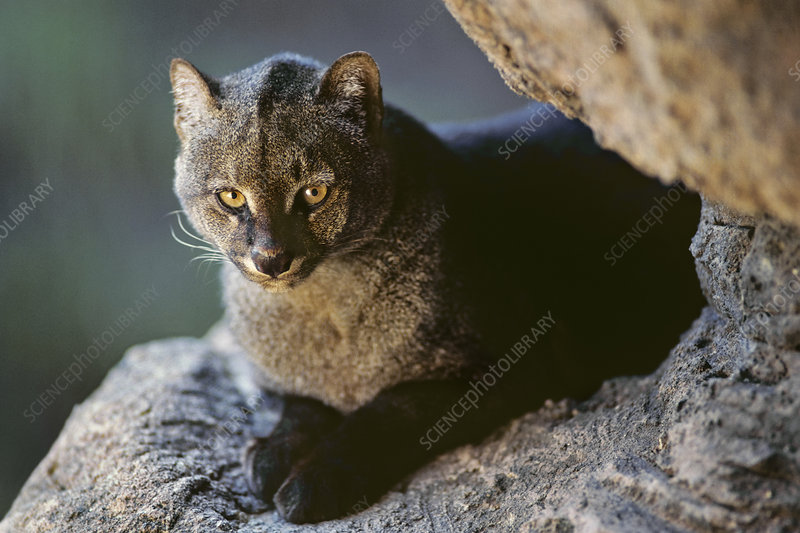Jaguarundi: (161, 45, 610, 525)
